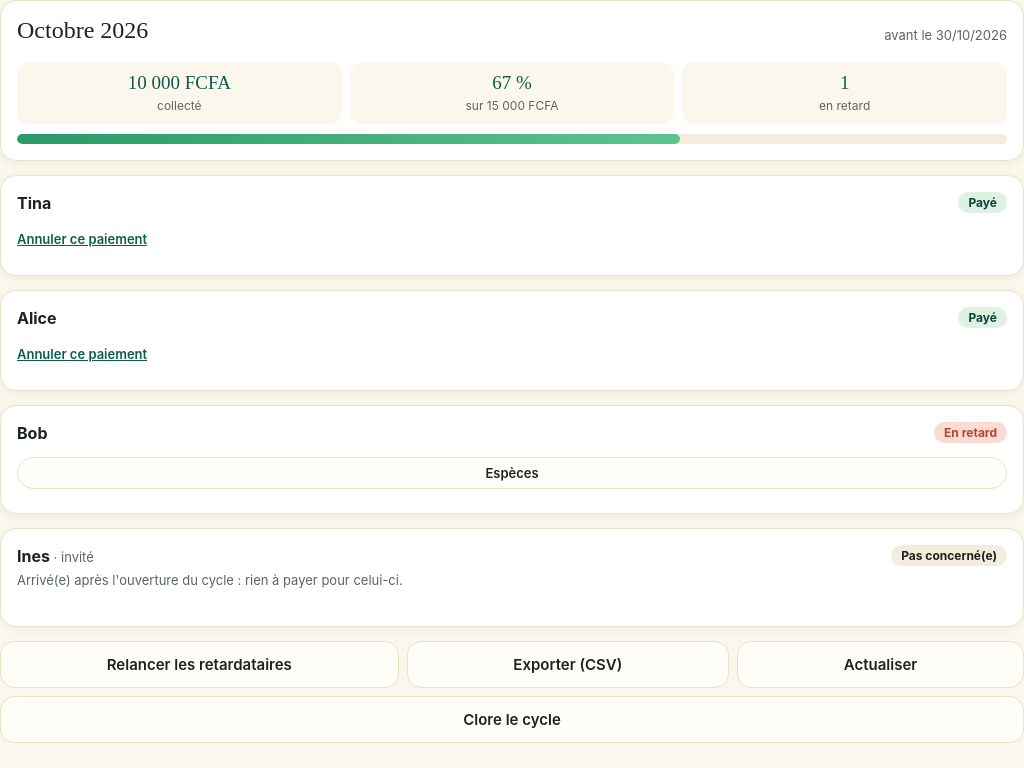
Test: onglet Cycle › membre arrivé après l'ouverture : ni relancé ni compté comme futur débiteur
Check: the text "Pas concerné(e)" is shown, box x1=891 y1=545 x2=1007 y2=566
Click the button "Relancer les retardataires". click: point(199, 664)
box: x1=0 y1=641 x2=399 y2=688
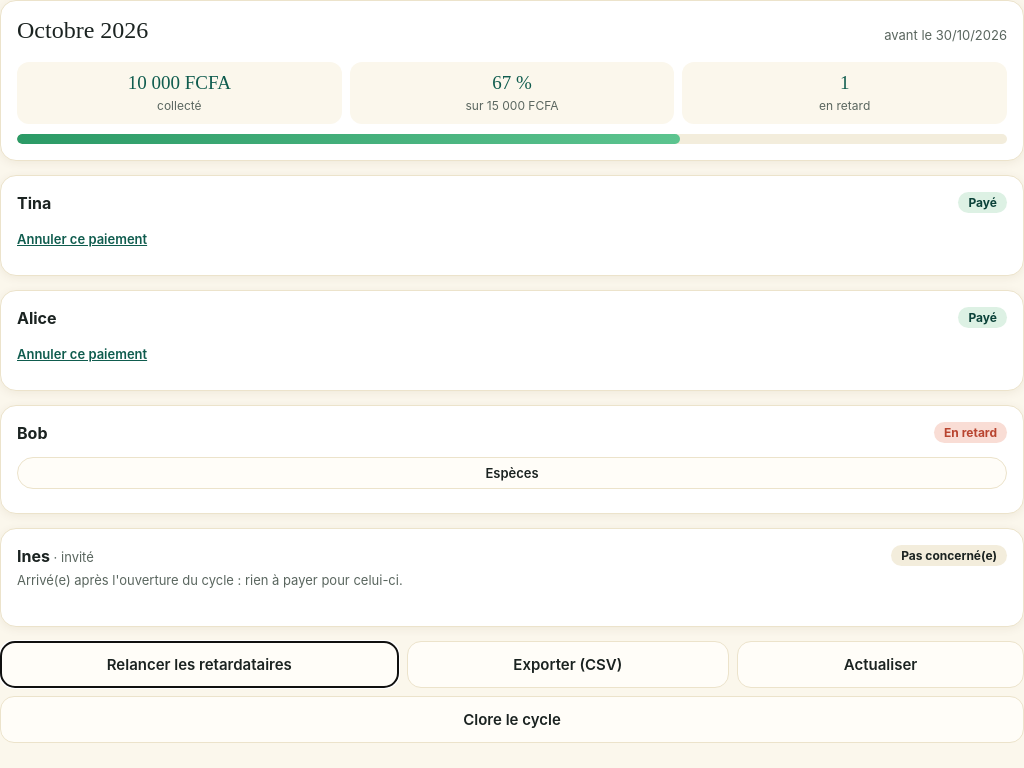
Click the button "Clore le cycle". click: point(512, 720)
box: x1=0 y1=696 x2=1023 y2=743
(page scrolled)
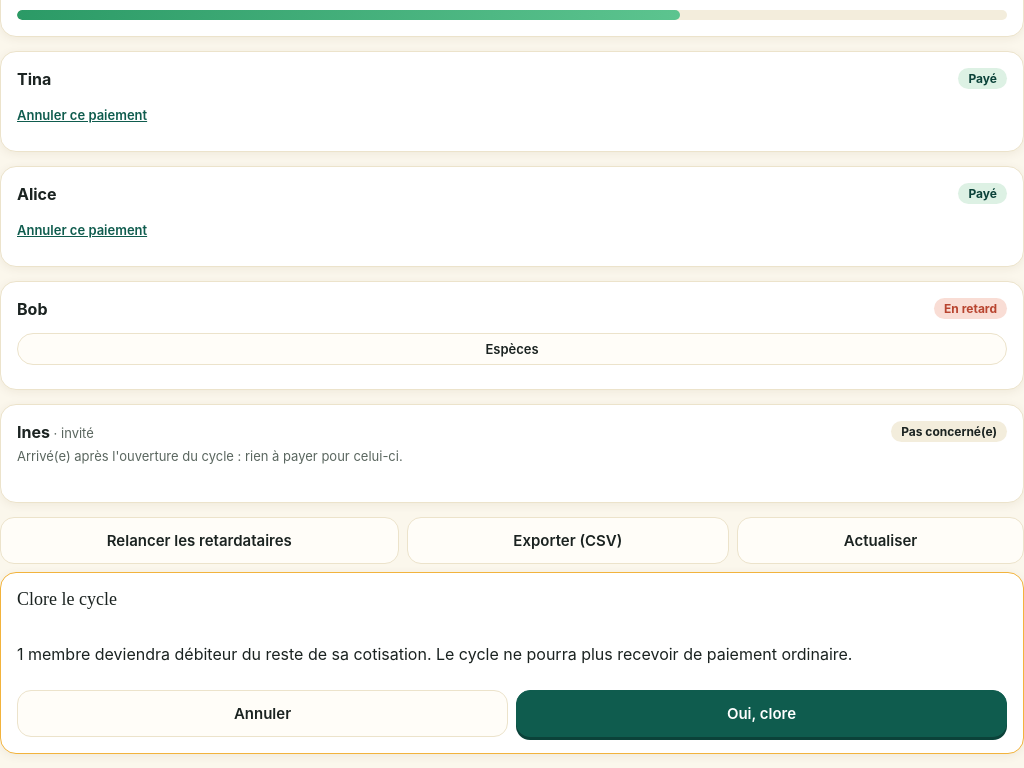
Check: the text "1 membre deviendra débiteur" is shown, box x1=17 y1=644 x2=852 y2=664
